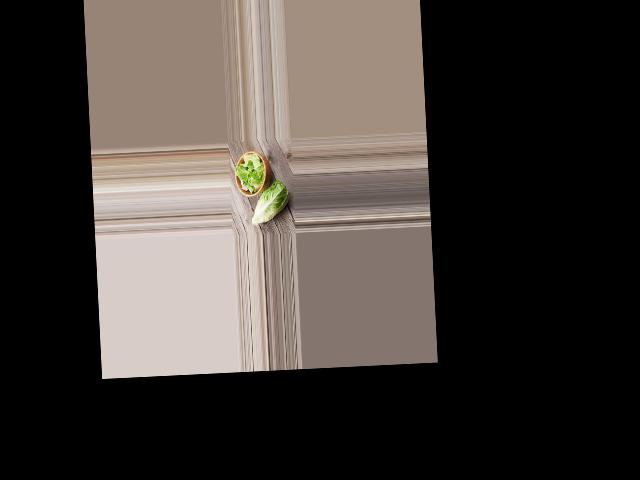lettuce: (249, 180, 291, 224)
